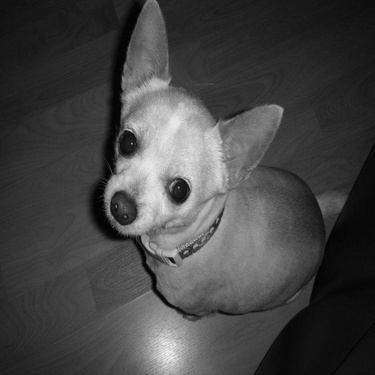dog: (94, 2, 332, 323)
